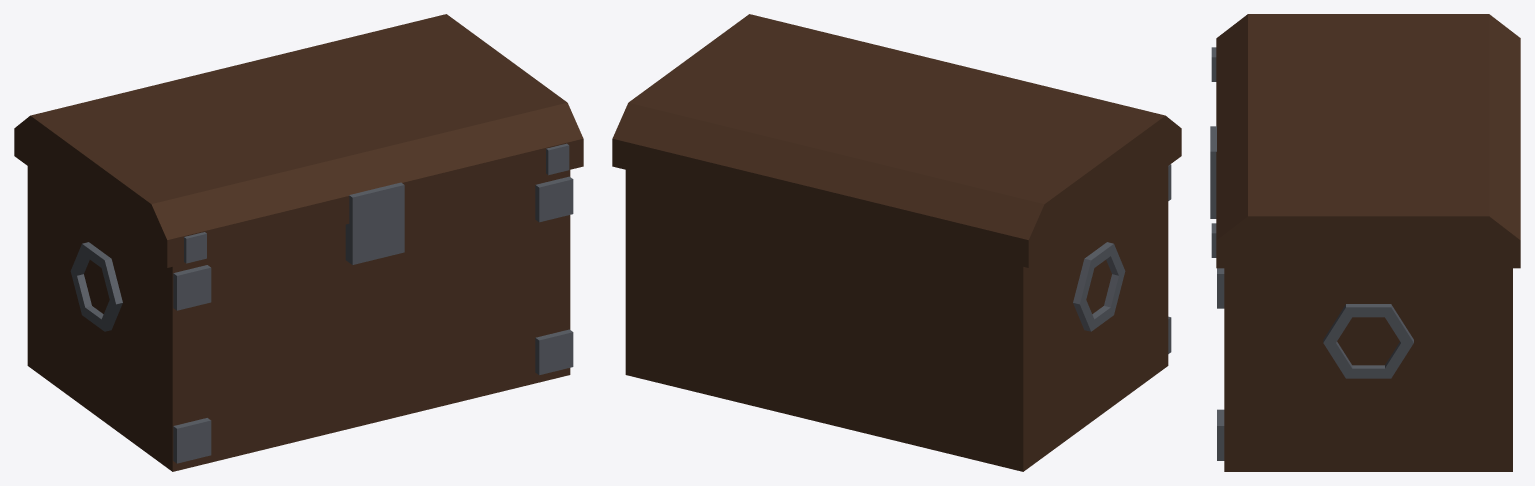
Rendered from fn_chest.glb.
3 renders of one model, left to right at view 1: azimuth 30°, elevation 25°; view 2: azimuth 150°, elevation 25°; view 3: azimuth 270°, elevation 25°, orthographic.
Visible parts, largest first — view 1: fn_chest__wood_dark, fn_chest__metal; view 2: fn_chest__wood_dark, fn_chest__metal; view 3: fn_chest__wood_dark, fn_chest__metal.
Part boxes in pixels (box(x1,y1,x2,y2)): fn_chest__wood_dark: box(14, 14, 583, 471); fn_chest__metal: box(70, 143, 573, 463); fn_chest__wood_dark: box(612, 14, 1181, 471); fn_chest__metal: box(1073, 164, 1171, 353); fn_chest__wood_dark: box(1216, 14, 1520, 471); fn_chest__metal: box(1210, 47, 1413, 460).
Bounding box in the file's own units: 10 × 6 × 6.49.
